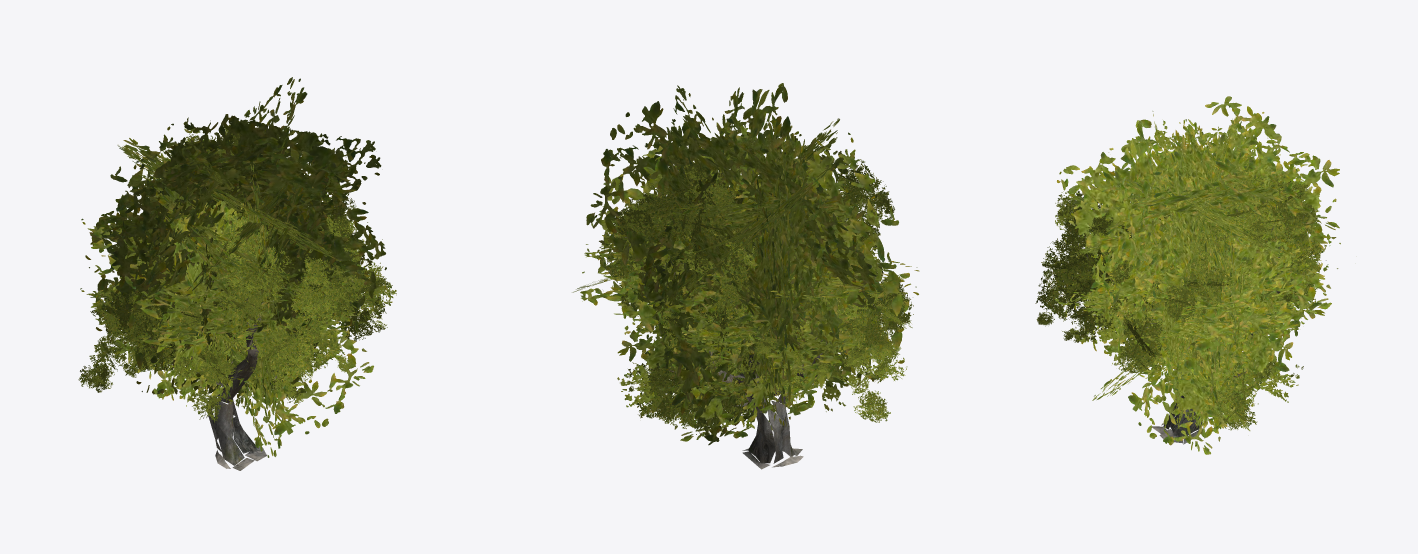
File: island-tree-01.glb
The picture shows the model from 3 angles, left to right: view 1: azimuth 30°, elevation 25°; view 2: azimuth 150°, elevation 25°; view 3: azimuth 270°, elevation 25°; orthographic projection. The views are drawn at different scales.
Visible parts, largest first — view 1: island_tree_01; view 2: island_tree_01; view 3: island_tree_01.
Part boxes in pixels (<box>): island_tree_01: <box>78,77,396,470</box>; island_tree_01: <box>572,83,919,469</box>; island_tree_01: <box>1035,96,1340,454</box>.
Bounding box in the file's own units: 6.72 × 8.09 × 6.59.
Materials: 3 (3 with a texture image).
